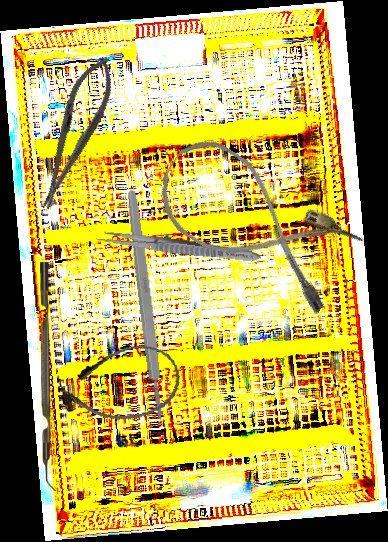Cannula: (143, 127, 367, 319), (53, 338, 186, 431)
Chopper: (40, 262, 60, 491)
Dressing Forceps: (94, 228, 263, 266)
Needle Holder: (26, 50, 124, 216)
Scalpel Handle: (124, 189, 167, 421)
